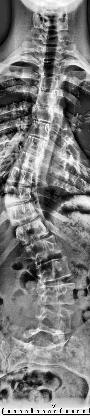Vertebrae: (25, 232, 63, 266), (34, 254, 72, 286), (31, 306, 74, 334), (36, 281, 76, 307), (13, 219, 49, 247), (5, 201, 41, 226), (3, 184, 33, 208), (13, 150, 41, 174), (6, 167, 38, 187), (22, 133, 48, 157), (34, 87, 62, 109), (27, 120, 53, 140), (31, 102, 55, 122), (38, 73, 64, 91), (40, 46, 64, 63), (38, 60, 63, 76)
